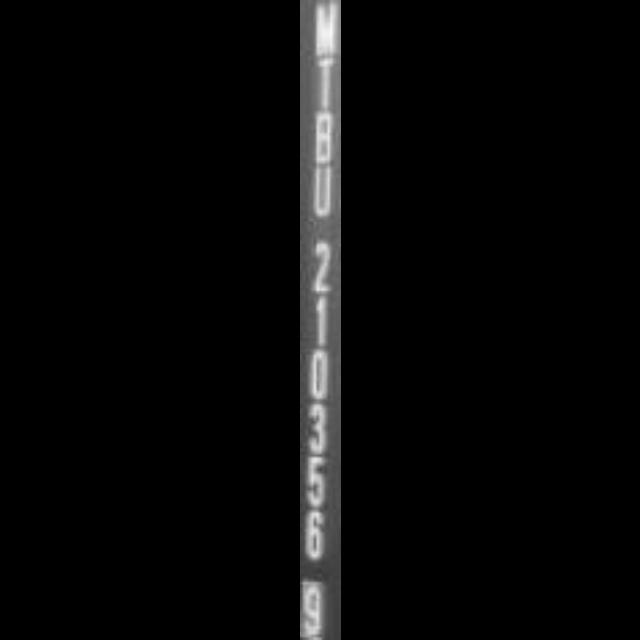0: (300, 346, 340, 406)
1: (303, 294, 337, 350)
2: (302, 230, 340, 296)
3: (300, 401, 340, 454)
5: (300, 452, 340, 508)
6: (300, 504, 340, 560)
9: (300, 576, 326, 640)
b: (306, 108, 340, 168)
m: (308, 0, 340, 58)
t: (306, 56, 340, 110)
u: (302, 164, 340, 218)
